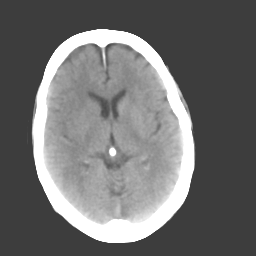ischemic: (45, 93, 99, 151)
